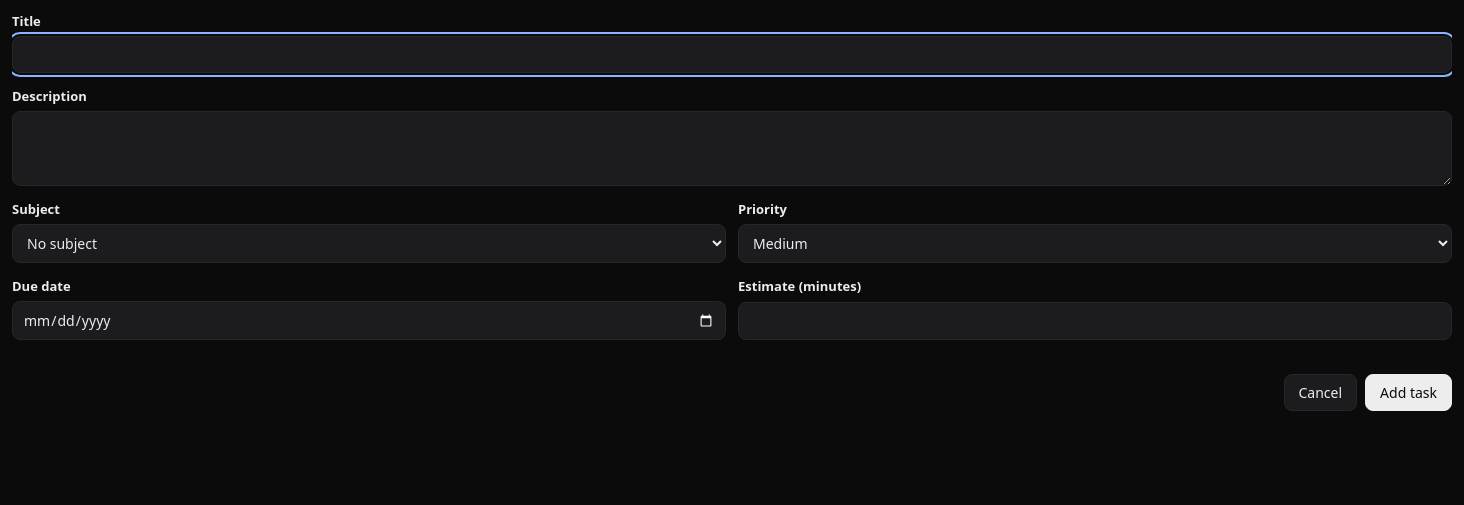
Test: TaskForm: dependent subject/chapter dropdowns › hides the chapter dropdown until a subject is selected
The image size is (1464, 505).
Expected: the field labelled "Chapter" is not shown
Select "Biology" in the dropdown labelled "Subject" at (369, 244), box [12,224,726,263]
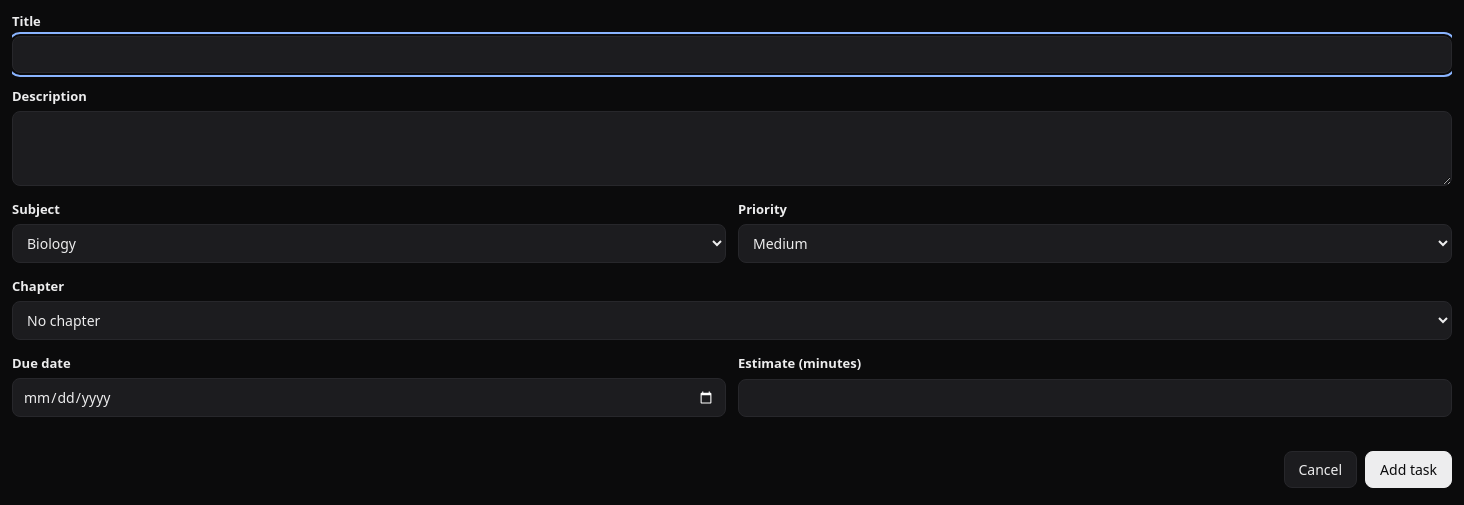
Now the dropdown labelled "Chapter" is shown, box [12,301,1452,340]
